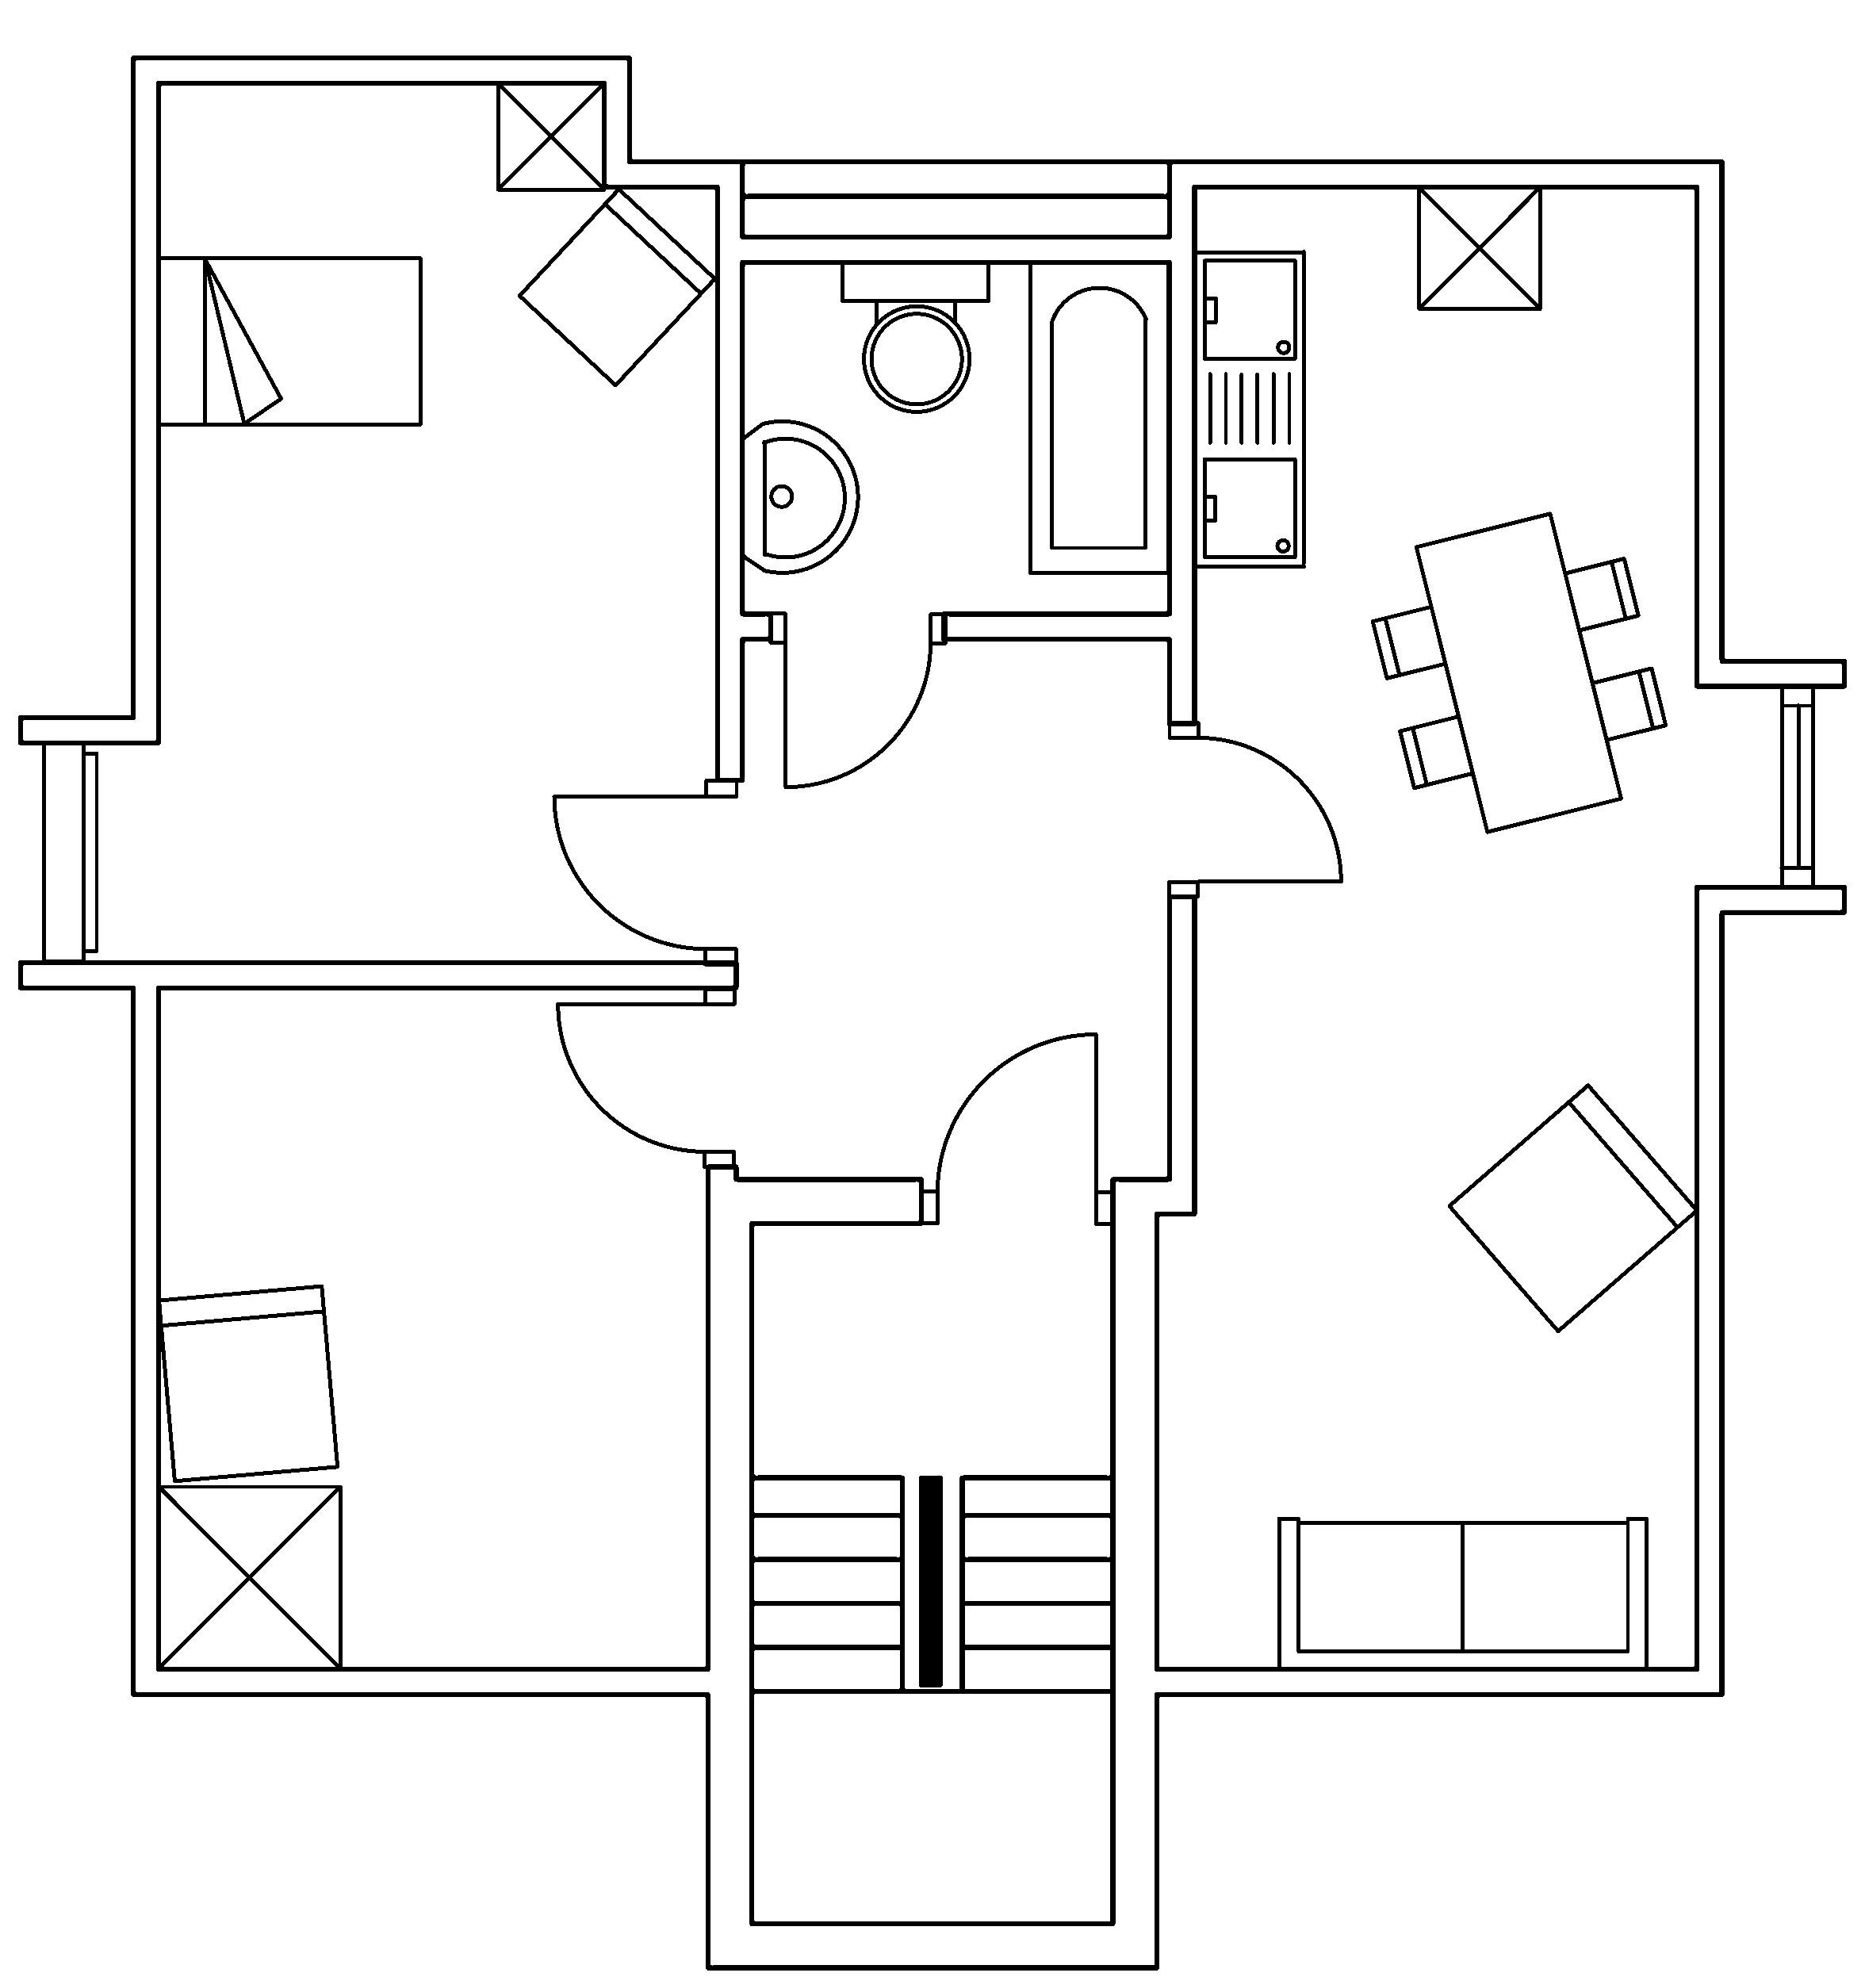bed: (154, 254, 422, 428)
coffee_table: (154, 1481, 342, 1671), (1416, 182, 1542, 310), (494, 79, 606, 191)
dining_table: (1369, 510, 1669, 834)
large_sink: (840, 258, 990, 412)
large_sofa: (1274, 1515, 1649, 1672)
small_sink: (740, 419, 859, 573)
small_sofa: (1446, 1082, 1698, 1332), (515, 186, 717, 387), (156, 1282, 340, 1483)
tub: (1027, 258, 1171, 575)
twin_sink: (1192, 247, 1308, 570)
